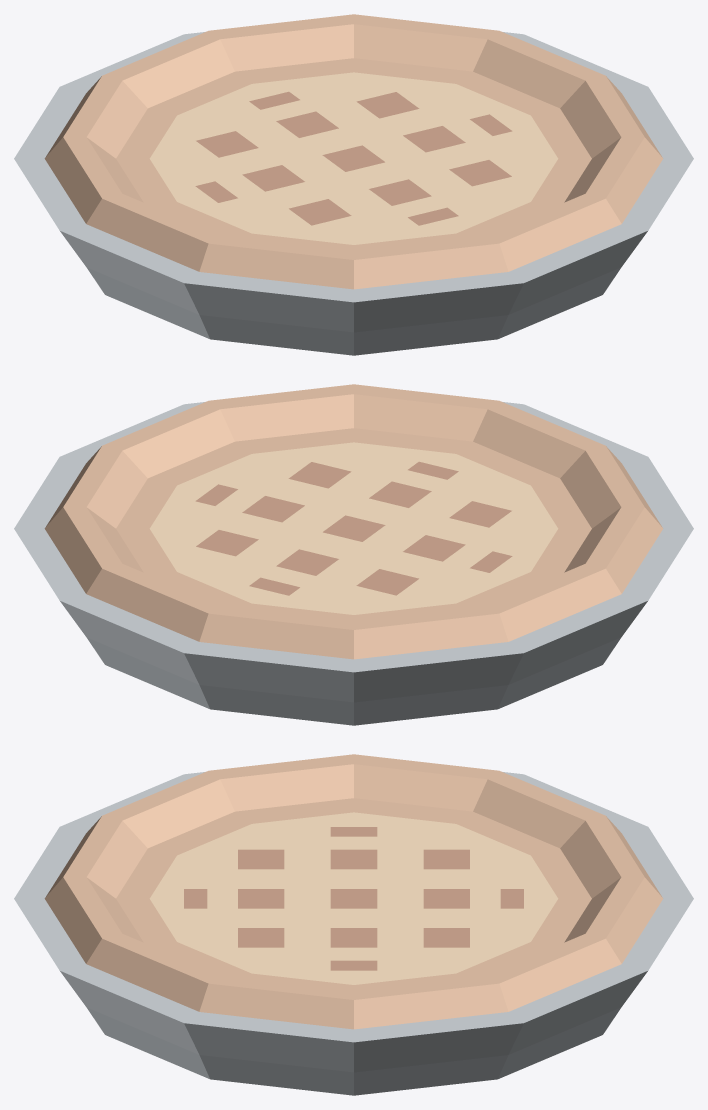
File: pie.glb
3 renders of one model, top to bottom at view 1: azimuth 30°, elevation 25°; view 2: azimuth 150°, elevation 25°; view 3: azimuth 270°, elevation 25°, orthographic.
Visible parts, largest first — view 1: pie; view 2: pie; view 3: pie.
Boxes of the visible parts, x1,y1,x2,y2 form: pie: (14, 14, 693, 355); pie: (14, 384, 693, 725); pie: (14, 754, 693, 1095).
Bounding box in the file's own units: 0.9504 × 0.1497 × 0.9504.
